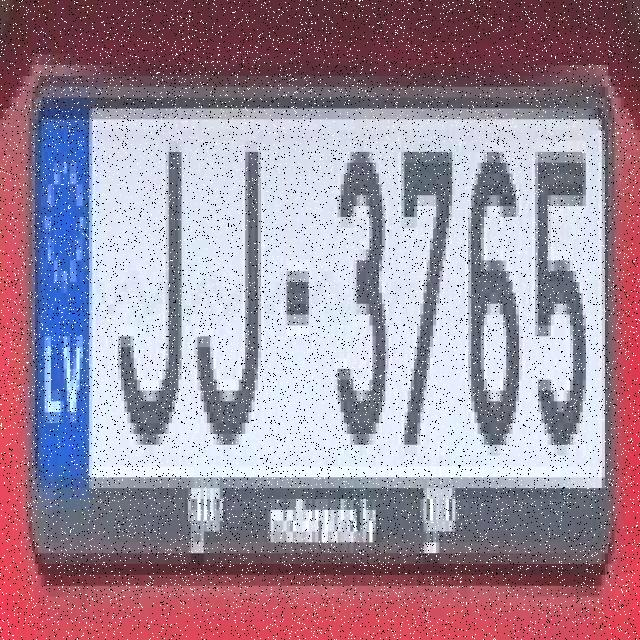licenseplate: (25, 57, 630, 598)
